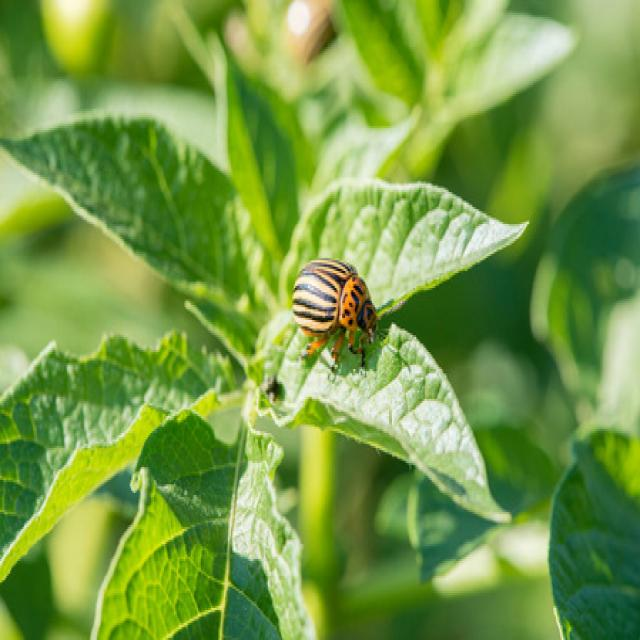ShuCaiHuaBanChong-Grown-: (276, 248, 384, 378)
